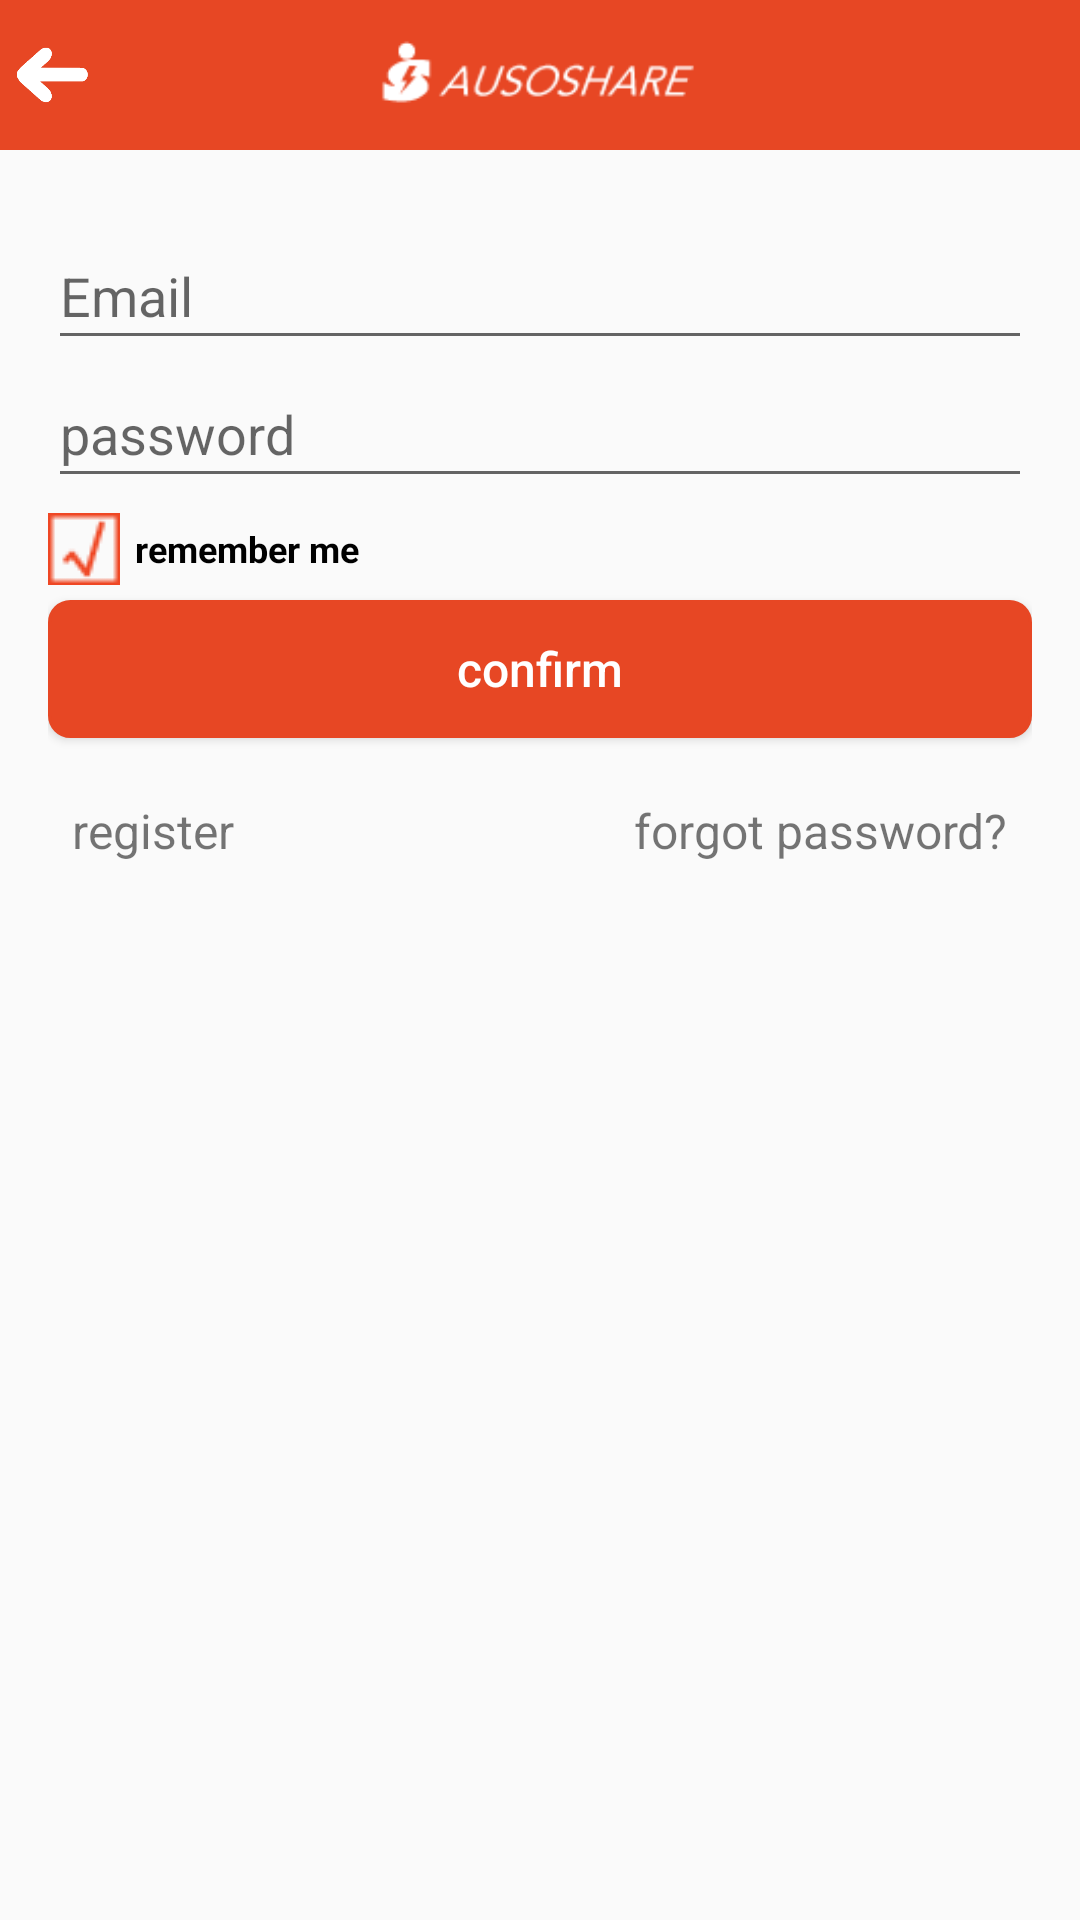

Named icons in this screenshot (1080px x 1920px) and their bounding boxes, (x1, y1, x2, y2):
left arrow: (17, 48, 88, 102)
